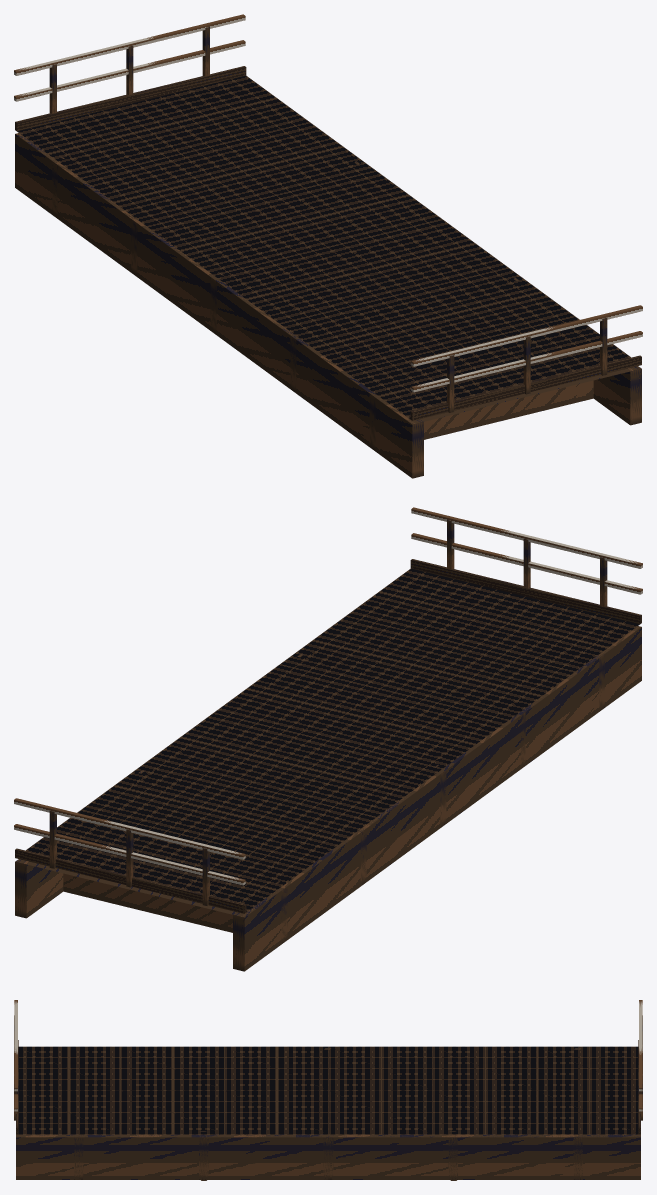
The model's file is PLA-01_Plaza_de_cubierta.gltf.
3 views of the same model, one above another, from view 1: azimuth 30°, elevation 25°; view 2: azimuth 150°, elevation 25°; view 3: azimuth 270°, elevation 25° (orthographic). The views are drawn at different scales.
Parts seen in each view (by area): view 1: PLA-01_Plaza_de_cubierta-col; view 2: PLA-01_Plaza_de_cubierta-col; view 3: PLA-01_Plaza_de_cubierta-col.
Boxes of the visible parts, <box> form: PLA-01_Plaza_de_cubierta-col: <box>14,14,642,478</box>; PLA-01_Plaza_de_cubierta-col: <box>14,507,642,971</box>; PLA-01_Plaza_de_cubierta-col: <box>14,1000,642,1180</box>.
Size of the model in its own units: 4 by 2.02 by 12.08.
1 material, 1 textured.
